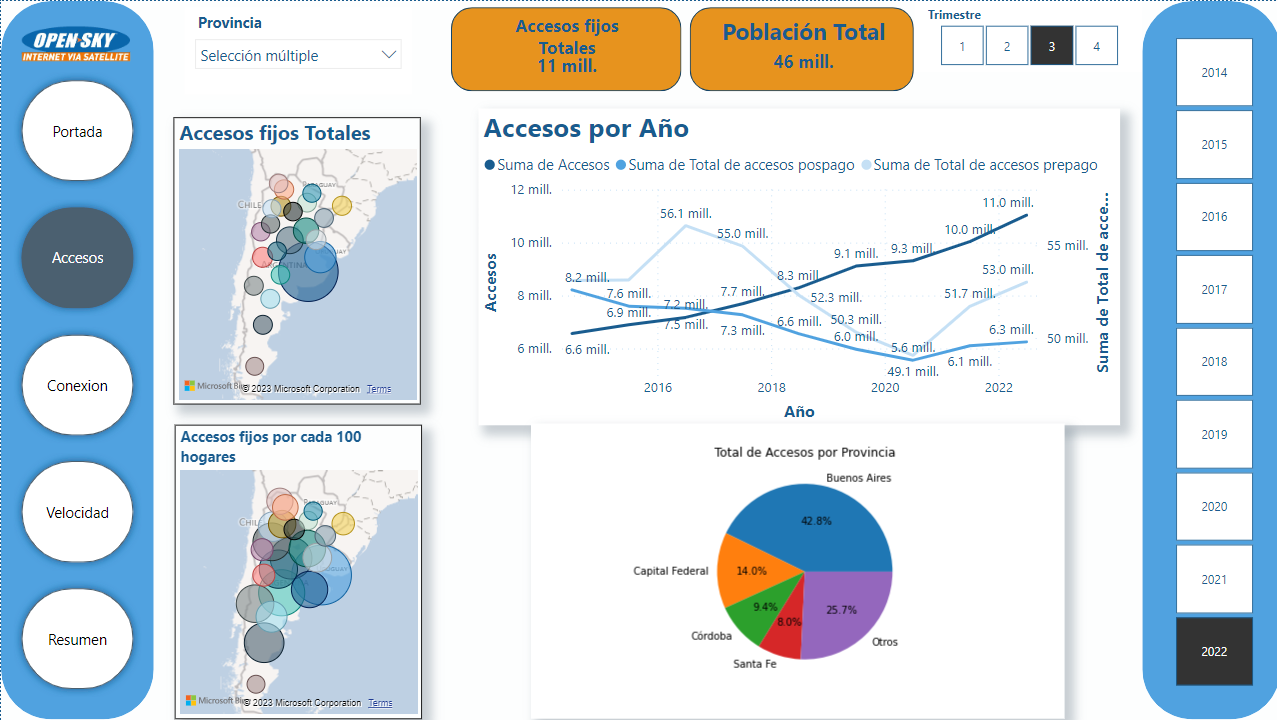

The dashboard page shown, as its layout file describes it:
{"tool":"powerbi","page":{"name":"Accesos","canvas":[1280,720],"ordinal":1},"visuals":[{"type":"shape","box":[450,5.7,230,84.3],"z":0},{"type":"shape","box":[688.6,5.7,224.3,84.3],"z":1000},{"type":"shape","box":[0,0,152.9,718.6],"z":2000},{"type":"shape","box":[1141.4,0,138.6,718.6],"z":3000},{"type":"lineChart","title":"Accesos por Año","fields":{"Y":["Sum(conexion_regional.Accesos)","Sum(Telefonia_movil.Total de accesos pospago)"],"Category":["TablaCalendario.Date"],"Y2":["Sum(Telefonia_movil.Total de accesos prepago)"]},"box":[477.1,107.1,641.4,317.1],"z":4000},{"type":"map","title":"Accesos fijos Totales","fields":{"Series":["provincias.iso_nombre"],"Y":["provincias.latitud"],"X":["provincias.longitud"],"Size":["Sum(conexion_regional.Accesos)"]},"box":[172.9,115.7,247.1,287.1],"z":5000},{"type":"slicer","fields":{"Values":["TablaCalendario.Año"]},"box":[1148.6,30,127.1,661.4],"z":6000},{"type":"pythonVisual","fields":{"Values":["conexion_regional.Accesos","conexion_regional.Año","conexion_regional.Provincia","conexion_regional.Tipo Conexion","conexion_regional.Trimestre"]},"box":[530,422.5,533.8,295],"z":7000},{"type":"image","box":[0,17.1,152.9,54.3],"z":8000},{"type":"pageNavigator","box":[12.9,71.4,128.6,625.7],"z":9000},{"type":"card","title":"Accesos fijos Totales","fields":{"Values":["Sum(conexion_regional.Accesos)"]},"box":[478.6,12.9,174.3,67.1],"z":10000},{"type":"card","title":"Población Total","fields":{"Values":["Medidas.Poblacion"]},"box":[705.7,14.3,192.9,67.1],"z":11000},{"type":"map","title":"Accesos fijos por cada 100 hogares","fields":{"Y":["provincias.latitud"],"X":["provincias.longitud"],"Series":["provincias.iso_nombre"],"Size":["Max(penetracion_regional.Accesos por cada 100 hogares)"]},"box":[174.3,424.3,247.1,294.3],"z":12000},{"type":"slicer","fields":{"Values":["provincias.iso_nombre"]},"box":[184.3,5.7,227.1,87.1],"z":13000},{"type":"slicer","fields":{"Values":["TablaCalendario.Trimestre"]},"box":[913.8,0,227.5,71.2],"z":15000}]}

Visuals, with their boxes on the page's 1280x720 design canvas (x1, y1, x2, y2). These are canvas units, not pixel positions in the 1277x720 screenshot, which may show the page scaled, cropped or inside an application window:
shape: pyautogui.locateOnScreen(450, 6, 680, 90)
shape: pyautogui.locateOnScreen(689, 6, 913, 90)
shape: pyautogui.locateOnScreen(0, 0, 153, 719)
shape: pyautogui.locateOnScreen(1141, 0, 1280, 719)
"Accesos por Año" lineChart: pyautogui.locateOnScreen(477, 107, 1118, 424)
"Accesos fijos Totales" map: pyautogui.locateOnScreen(173, 116, 420, 403)
slicer - TablaCalendario.Año: pyautogui.locateOnScreen(1149, 30, 1276, 691)
pythonVisual - conexion_regional.Accesos x conexion_regional.Año: pyautogui.locateOnScreen(530, 422, 1064, 718)
image: pyautogui.locateOnScreen(0, 17, 153, 71)
pageNavigator: pyautogui.locateOnScreen(13, 71, 142, 697)
"Accesos fijos Totales" card: pyautogui.locateOnScreen(479, 13, 653, 80)
"Población Total" card: pyautogui.locateOnScreen(706, 14, 899, 81)
"Accesos fijos por cada 100 hogares" map: pyautogui.locateOnScreen(174, 424, 421, 719)
slicer - provincias.iso_nombre: pyautogui.locateOnScreen(184, 6, 411, 93)
slicer - TablaCalendario.Trimestre: pyautogui.locateOnScreen(914, 0, 1141, 71)
